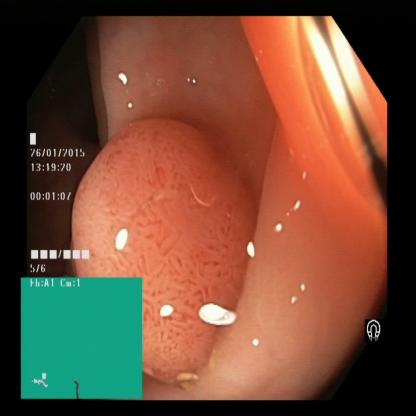Labels: (22, 277, 145, 403), (26, 124, 99, 274), (366, 310, 395, 348)
Polyps: (91, 141, 242, 313)
